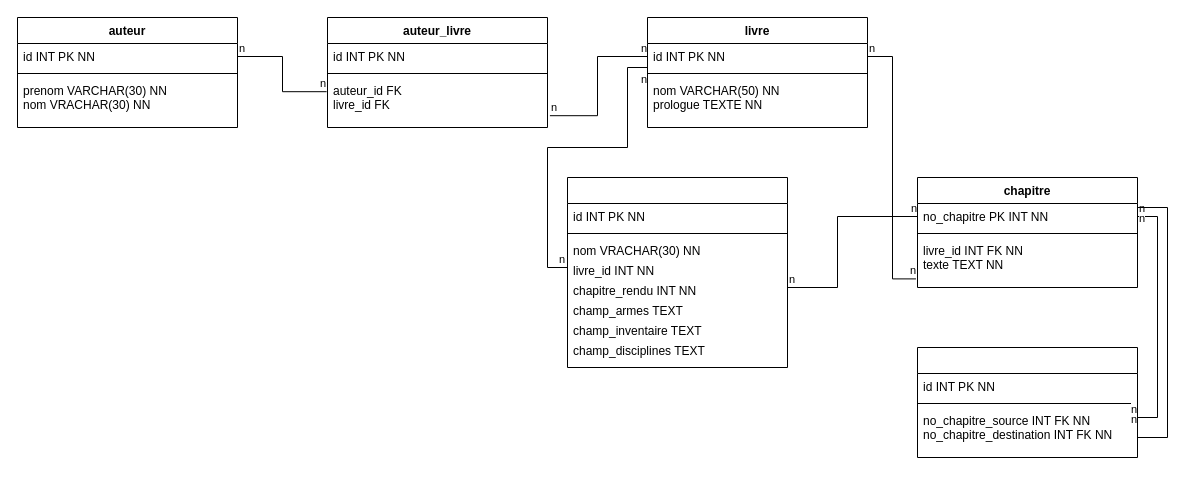
Some shapes in this 1186 by 478 pixel diagram are drawn without their labels. Each missing label, with the box of its shape:
lien_chapitre: (916, 346, 1138, 458)
sauvegarde: (566, 176, 788, 368)
